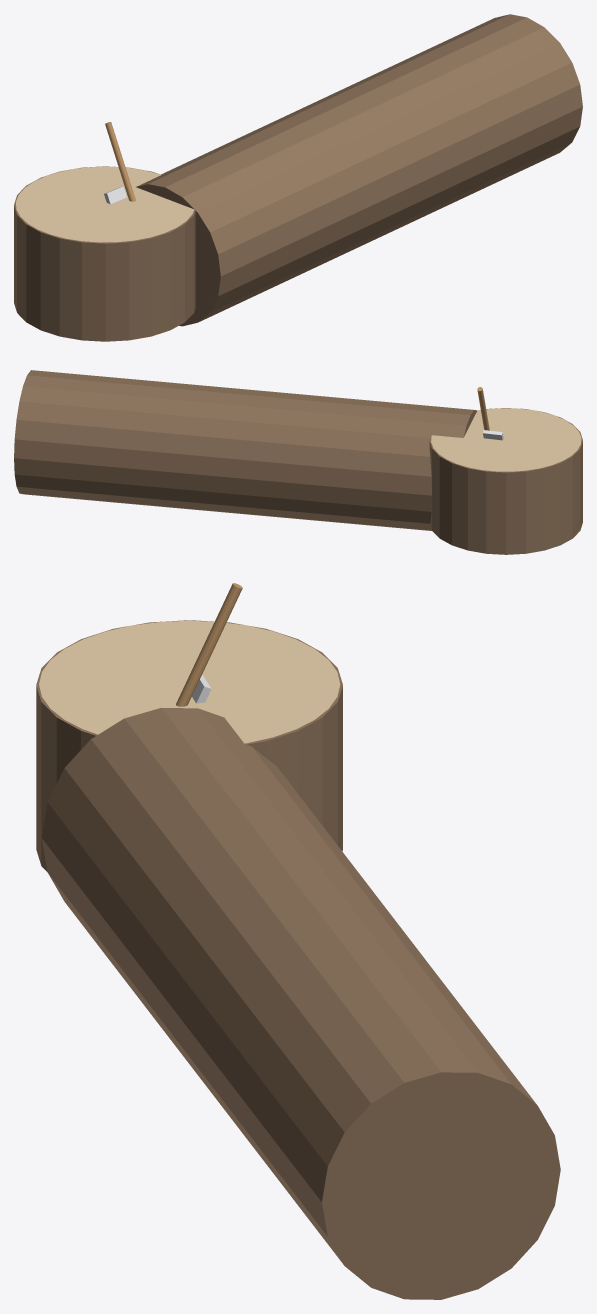
File: illegal_logging.glb
The picture shows the model from 3 angles, top to bottom: view 1: azimuth 30°, elevation 25°; view 2: azimuth 150°, elevation 25°; view 3: azimuth 270°, elevation 25°; orthographic projection. The views are drawn at different scales.
Visible parts, largest first — view 1: IllegalLoggingModel; view 2: IllegalLoggingModel; view 3: IllegalLoggingModel.
Boxes of the visible parts, x1,y1,x2,y2 form: IllegalLoggingModel: [14, 14, 582, 341]; IllegalLoggingModel: [14, 370, 582, 554]; IllegalLoggingModel: [36, 583, 560, 1299].
Bounding box in the file's own units: 8.27 × 2.56 × 3.76.
